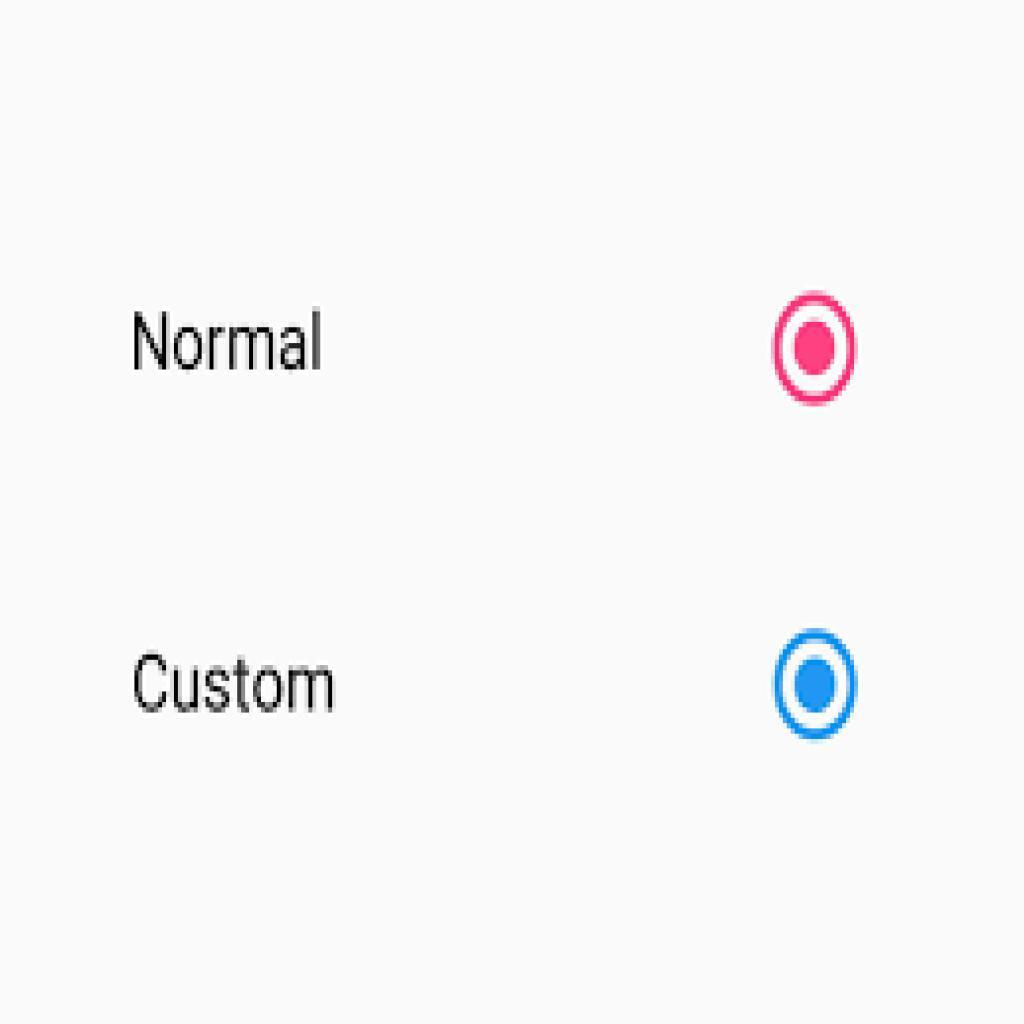label: (121, 298, 331, 380), (129, 645, 340, 726)
radio: (769, 289, 869, 413), (774, 627, 862, 749)
